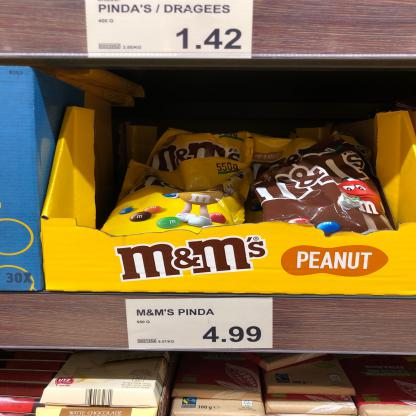prtg: (85, 1, 256, 61), (127, 298, 274, 351)
